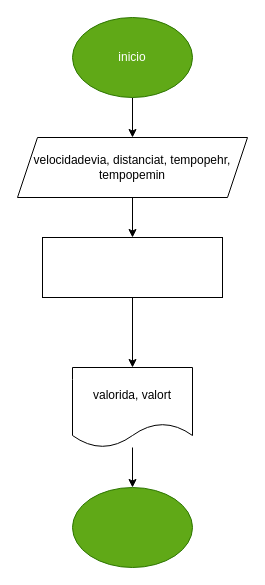
Image size: 265x585. Some labels were removed from this diagram. The box of each missing label's shape, as (x1, y1, x2, y2) in pixels:
fim: (72, 486, 192, 568)
valorida = (km_percorrido * valorlitro) valort = (valorida + valorida): (42, 236, 222, 298)
